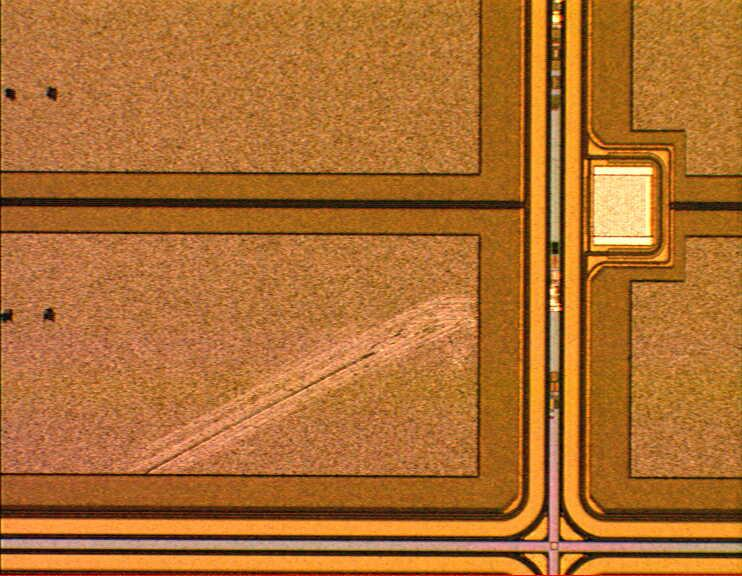SCRATCH: (85, 262, 572, 477)
